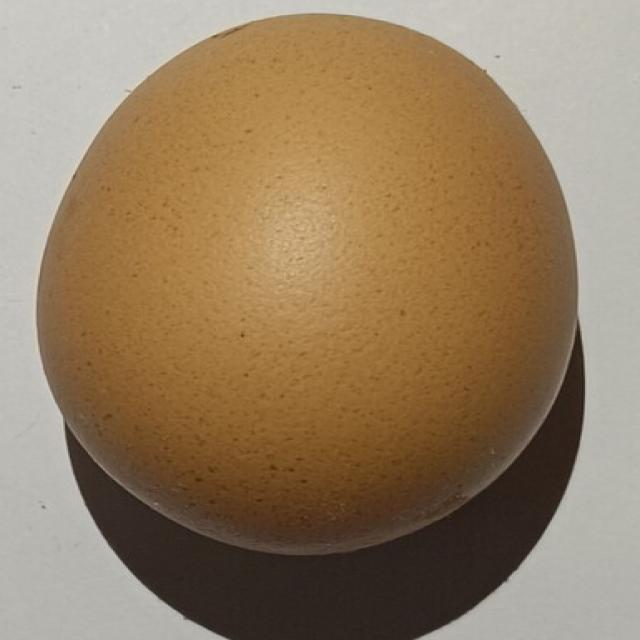fresh: (23, 0, 592, 558)
